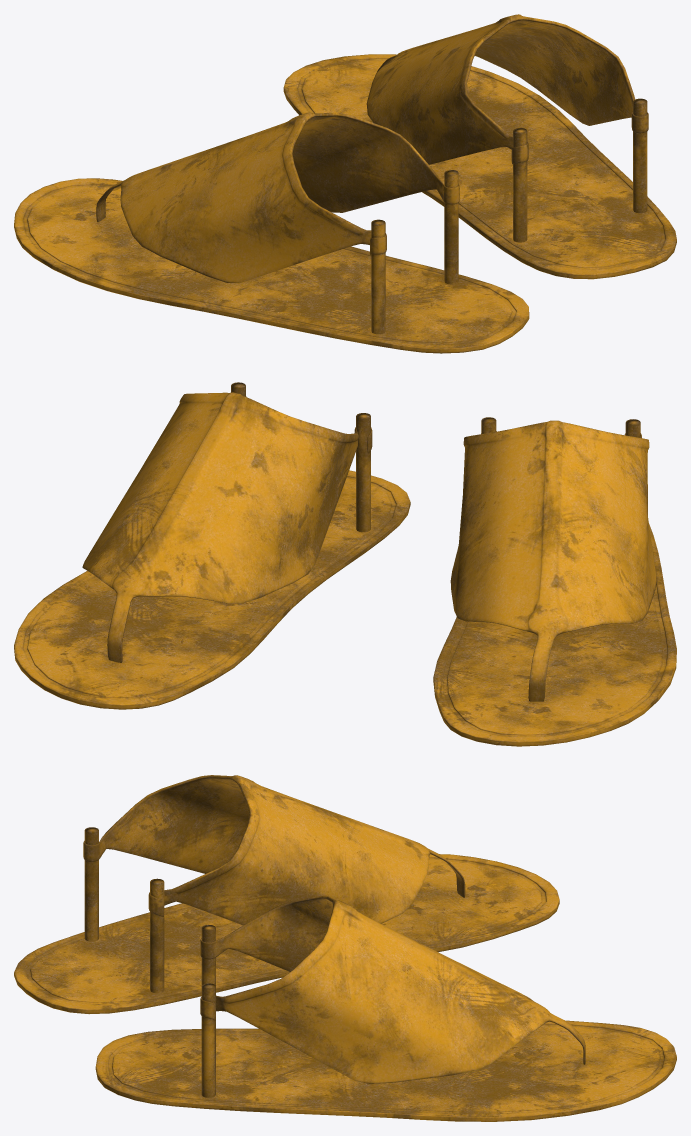
3 views of the same model, one above another, from view 1: azimuth 30°, elevation 25°; view 2: azimuth 150°, elevation 25°; view 3: azimuth 270°, elevation 25° (orthographic). The views are drawn at different scales.
Visible parts, largest first — view 1: pCylinder12, pCylinder10; view 2: pCylinder10, pCylinder12; view 3: pCylinder10, pCylinder12.
Part boxes in pixels (x1,y1,x2,y2): pCylinder12: (14, 112, 529, 353); pCylinder10: (283, 14, 676, 279); pCylinder10: (14, 382, 410, 709); pCylinder12: (433, 417, 676, 746); pCylinder10: (95, 895, 676, 1121); pCylinder12: (14, 775, 559, 1014).
Size of the model in its own units: 2784 by 829 by 2956.
